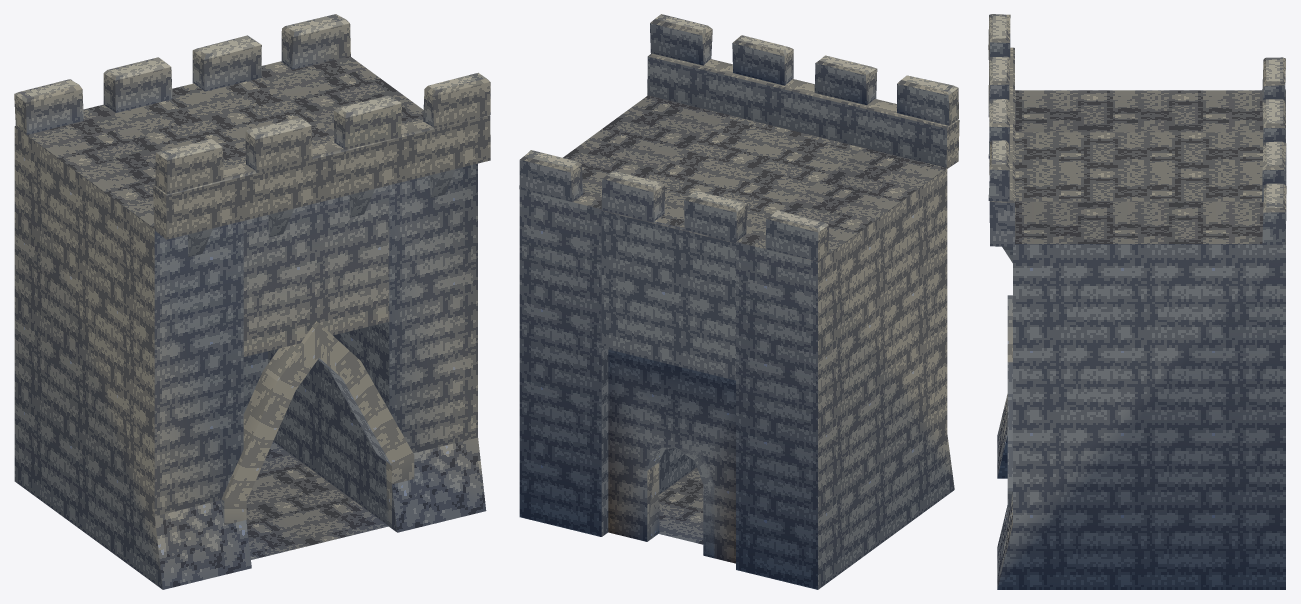
File: cst.gatehouse.glb
3 views of the same model, side by side, from view 1: azimuth 30°, elevation 25°; view 2: azimuth 150°, elevation 25°; view 3: azimuth 270°, elevation 25° (orthographic). The views are drawn at different scales.
Visible parts, largest first — view 1: kit_block, kit_top, kit_detail, kit_shell_passage_floor; view 2: kit_block, kit_top, kit_shell_passage_floor, kit_detail; view 3: kit_block, kit_top, kit_detail.
Part boxes in pixels (x1,y1,x2,y2): kit_block: [14, 56, 486, 589]; kit_top: [14, 14, 490, 239]; kit_detail: [188, 169, 455, 528]; kit_shell_passage_floor: [246, 441, 388, 559]; kit_block: [519, 95, 954, 589]; kit_top: [519, 14, 959, 261]; kit_shell_passage_floor: [658, 467, 703, 544]; kit_detail: [646, 439, 714, 558]; kit_block: [997, 90, 1285, 589]; kit_top: [988, 14, 1286, 246]; kit_detail: [1002, 246, 1012, 513].
Bounding box in the file's own units: 8.04 × 10.3 × 6.56.
5 materials, 5 textured.
